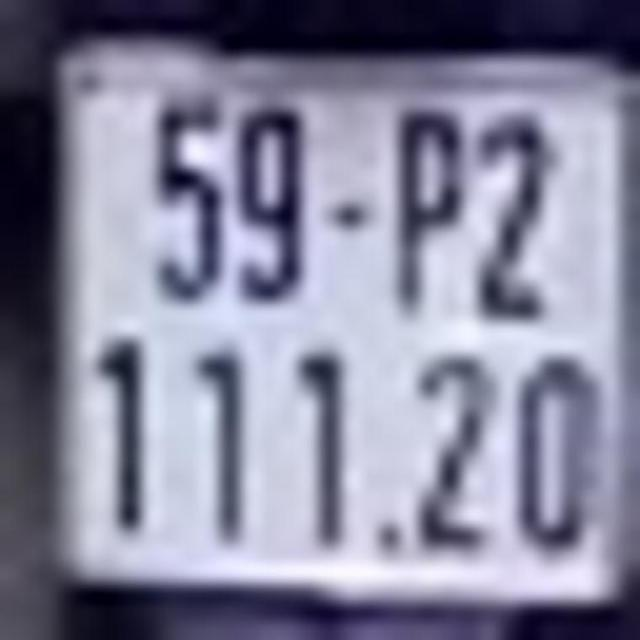0: (514, 345, 601, 554)
1: (94, 330, 152, 536), (192, 338, 247, 551), (292, 341, 344, 554)
2: (474, 106, 555, 322), (416, 340, 498, 550)
5: (157, 100, 219, 300)
9: (234, 106, 306, 306)
P: (393, 103, 465, 315)
